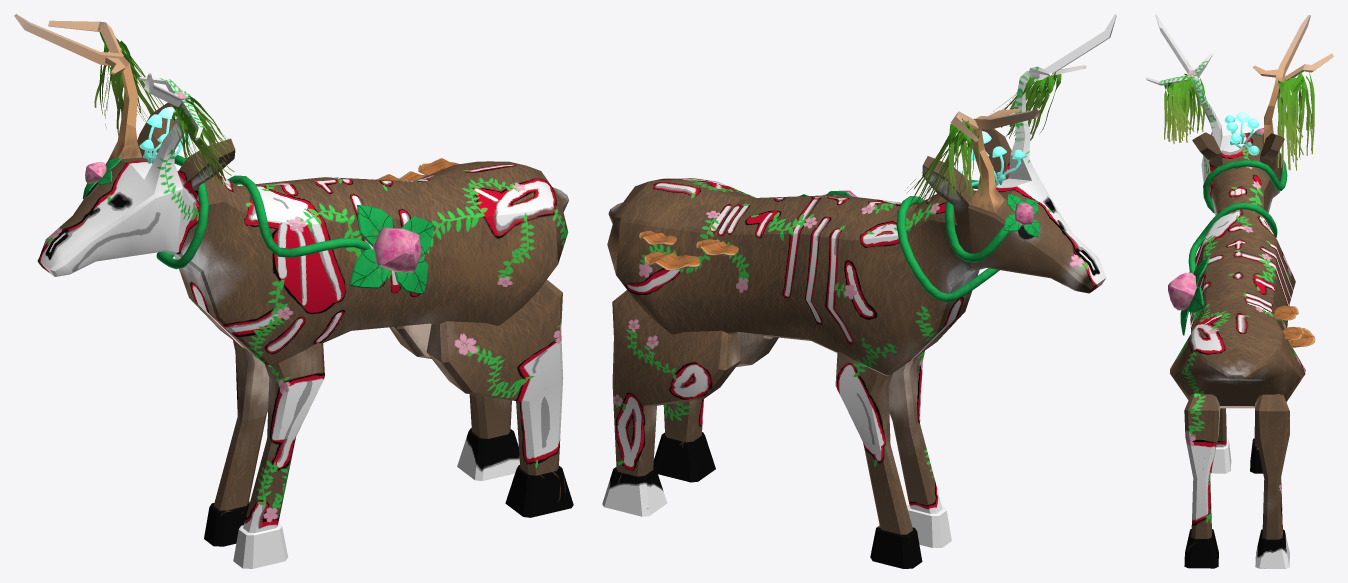
File: Deer_Day_Animated.fbx
3 renders of one model, left to right at view 1: azimuth 30°, elevation 25°; view 2: azimuth 150°, elevation 25°; view 3: azimuth 270°, elevation 25°, orthographic. The views are drawn at different scales.
Parts seen in each view (by area): view 1: Day_Deer, flower1Shape, Vine, Moss4, Moss5, Moss, Glowing_Mushrooms2, flower1Shape1; view 2: Day_Deer, Vine, Moss5, Moss2, flower1Shape1, Moss4, shelf_fungus:shelf_fungus, Glowing_Mushrooms2; view 3: Day_Deer, Moss2, Vine, flower1Shape, Moss, Moss4, Glowing_Mushrooms2, Moss5, shelf_fungus3, shelf_fungus:shelf_fungus.
Part boxes in pixels (x1,y1,x2,y2): Day_Deer: [14, 14, 573, 568]; flower1Shape: [349, 205, 433, 294]; Vine: [156, 155, 371, 269]; Moss4: [171, 99, 231, 189]; Moss5: [94, 40, 140, 135]; Moss: [174, 96, 234, 186]; Glowing_Mushrooms2: [139, 107, 190, 163]; flower1Shape1: [83, 158, 121, 199]; Day_Deer: [602, 14, 1116, 568]; Vine: [896, 179, 1009, 302]; Moss5: [932, 124, 983, 203]; Moss2: [905, 118, 974, 212]; flower1Shape1: [1003, 194, 1039, 237]; Moss4: [1003, 72, 1061, 140]; shelf_fungus:shelf_fungus: [644, 251, 700, 270]; Glowing_Mushrooms2: [958, 131, 1026, 186]; Day_Deer: [1145, 14, 1333, 568]; Moss2: [1277, 72, 1314, 171]; Vine: [1188, 153, 1287, 273]; flower1Shape: [1168, 256, 1209, 335]; Moss: [1168, 76, 1205, 143]; Moss4: [1164, 73, 1200, 141]; Glowing_Mushrooms2: [1224, 112, 1259, 155]; Moss5: [1277, 76, 1312, 139]; shelf_fungus3: [1274, 305, 1298, 320]; shelf_fungus:shelf_fungus: [1288, 328, 1315, 347].
Bounding box in the file's own units: 14.93 × 15.43 × 6.62.
